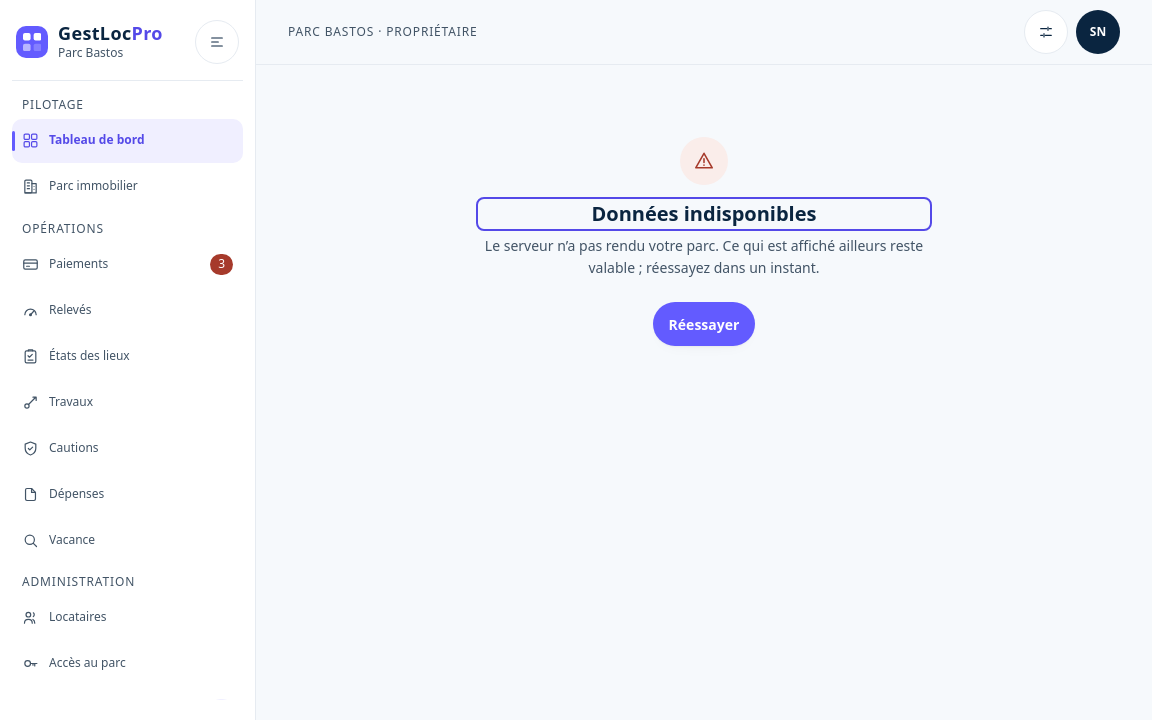
Test: le réglage des copies › nomme ce qu’il couvre, et pas plus
This screenshot has width=1152, height=720.
Click the button with aria-label "Sarah Ngassa": click(1098, 32) [1076,10,1120,54]
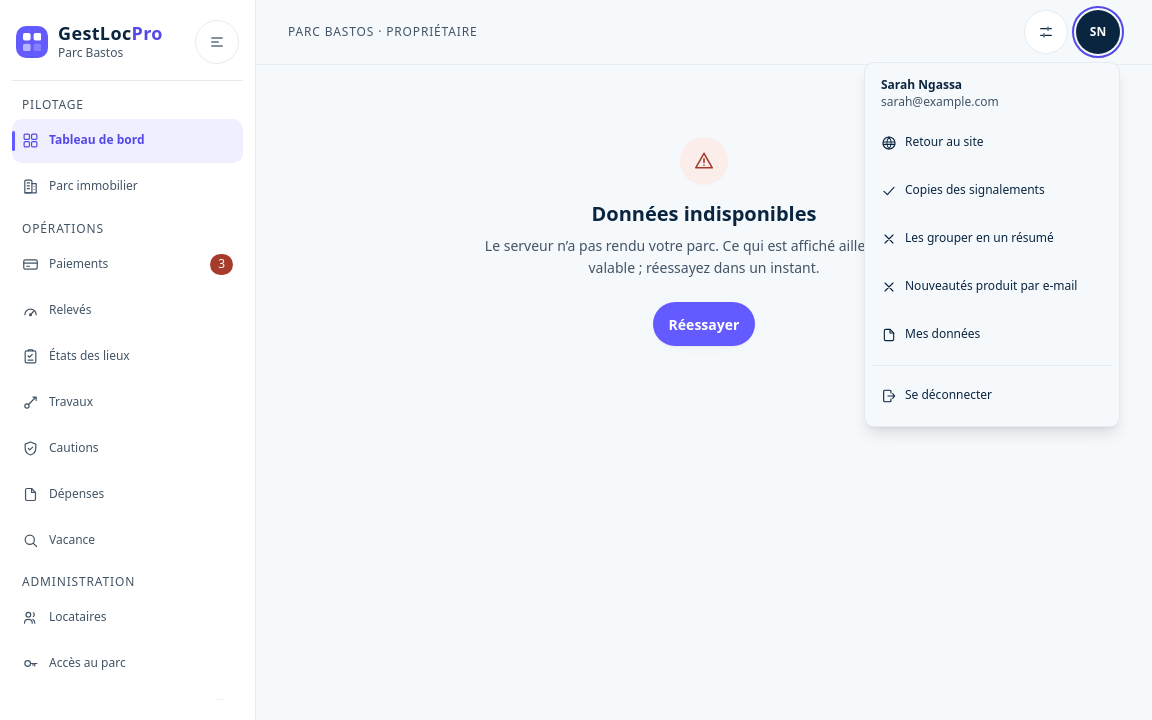
Check: the menu item "Copies des signalements" is shown, box [873,169,1111,213]
